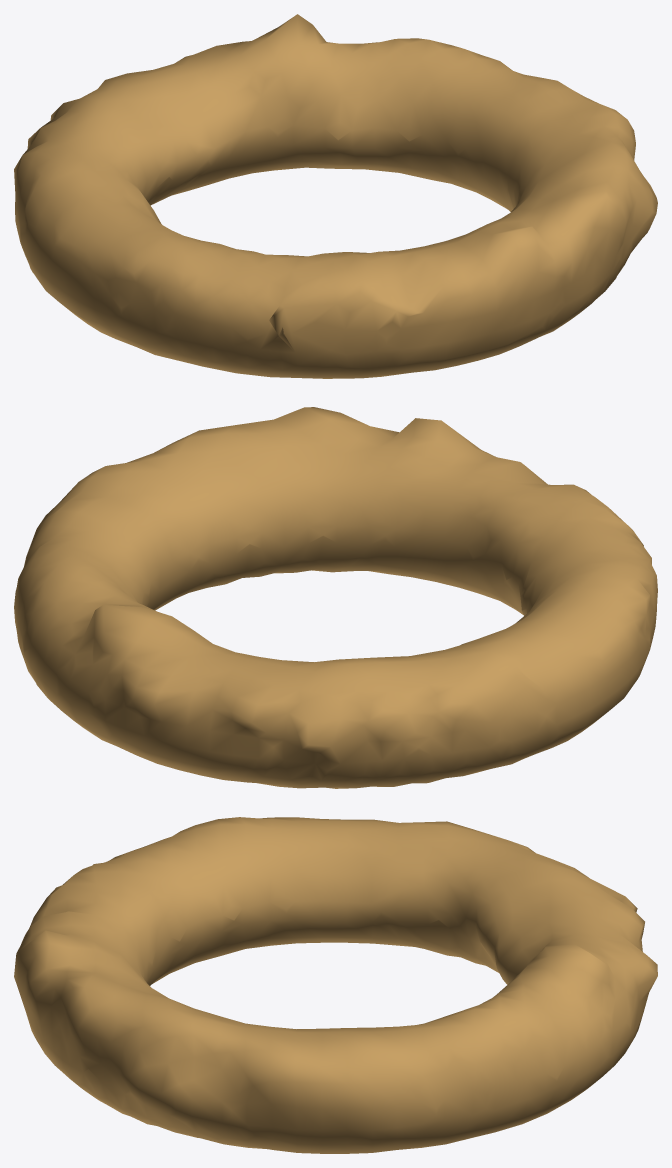
File: MOUSE PHONE 5.fbx
The picture shows the model from 3 angles, top to bottom: view 1: azimuth 30°, elevation 25°; view 2: azimuth 150°, elevation 25°; view 3: azimuth 270°, elevation 25°; orthographic projection. The views are drawn at different scales.
Parts seen in each view (by area): view 1: Torus; view 2: Torus; view 3: Torus.
Part boxes in pixels (left/top/right/bottom): Torus: left=14, top=14, right=657, bottom=378; Torus: left=14, top=407, right=657, bottom=788; Torus: left=14, top=817, right=657, bottom=1153.
Bounding box in the file's own units: 957 × 230 × 972.
